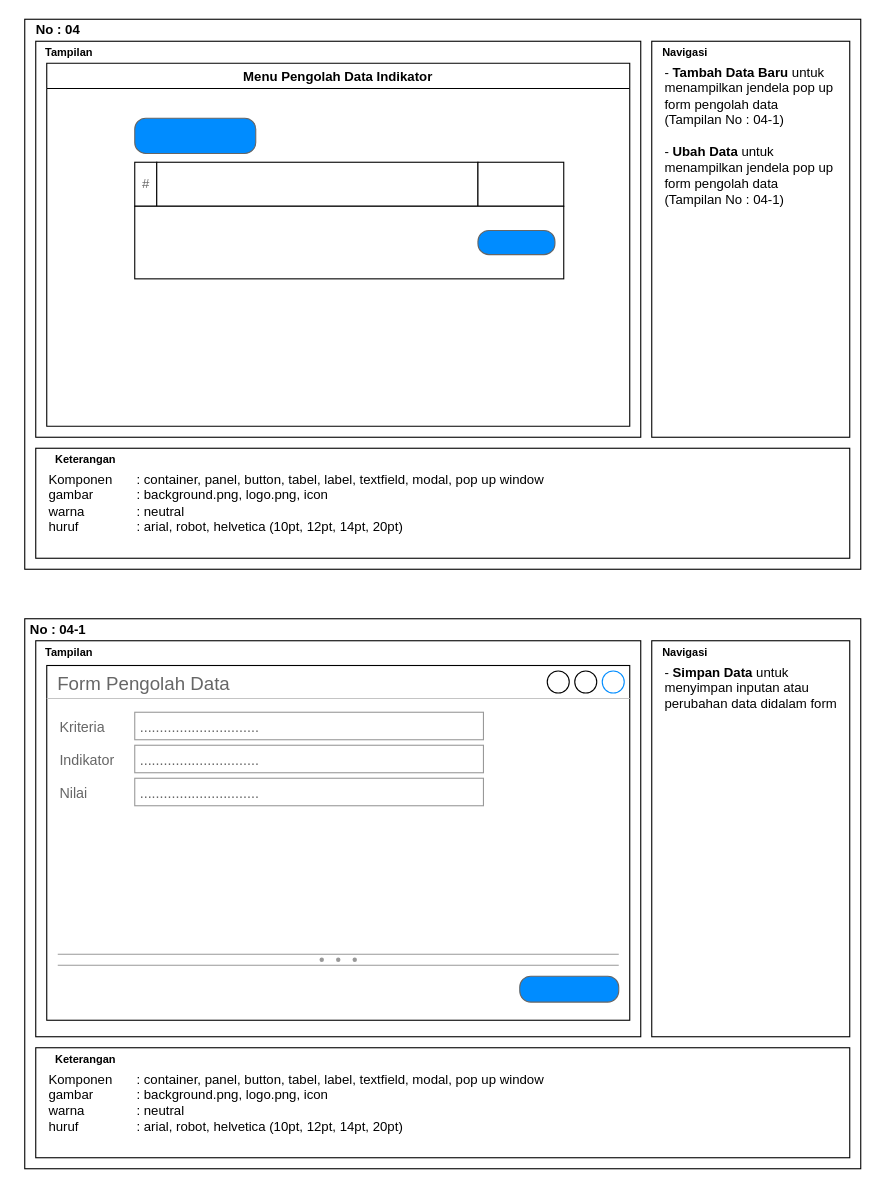
Image size: 880x1188. Some labels were removed from this diagram. Here are the shapes that lost their labels. From the top down, the centre of each, then its label:
the point at 195,135: Tambah Data
the point at 317,183: Indikator | Kriteria | Nilai
the point at 520,183: Olah Data
the point at 516,242: Ubah Data
the point at 569,988: Simpan Data
